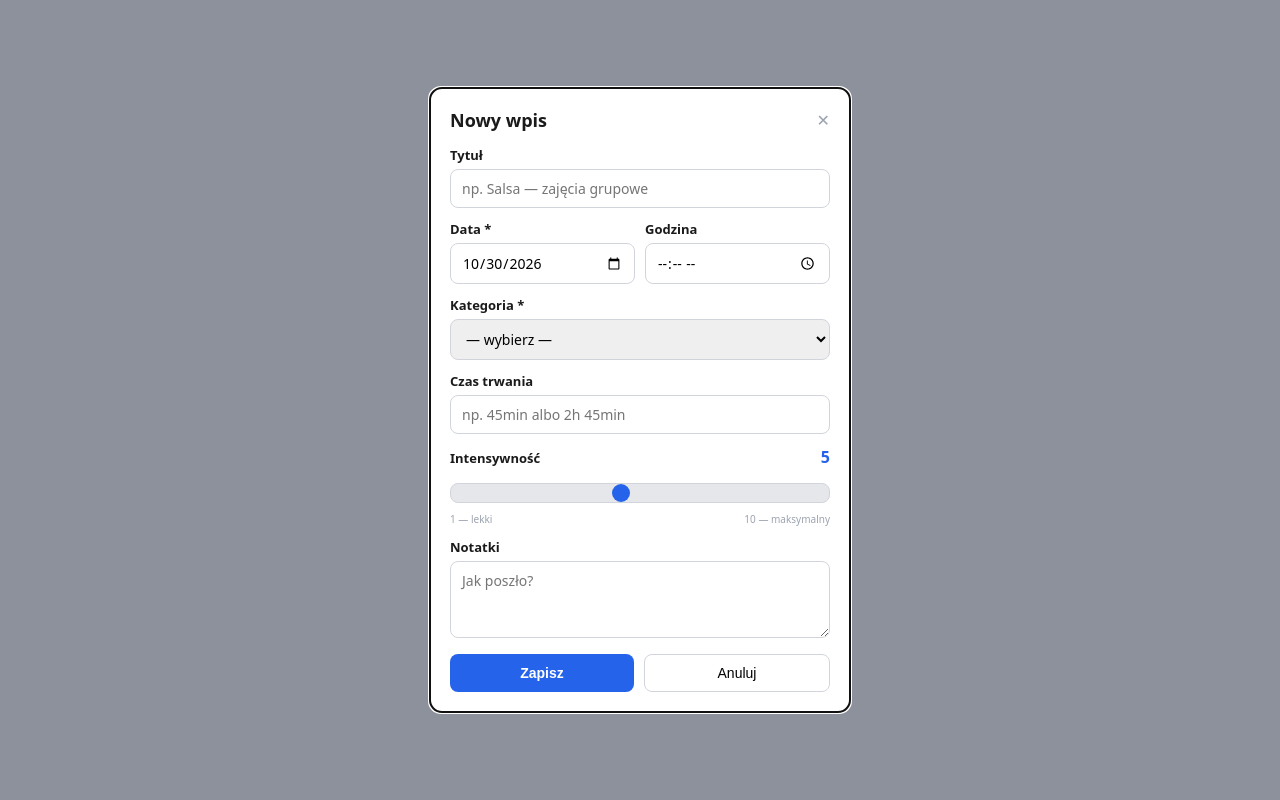
WorkoutLogForm › odrzuca czas trwania równy zero
Select "Taniec" in the dropdown labelled "Kategoria *" at (640, 340), box [450,319,830,360]
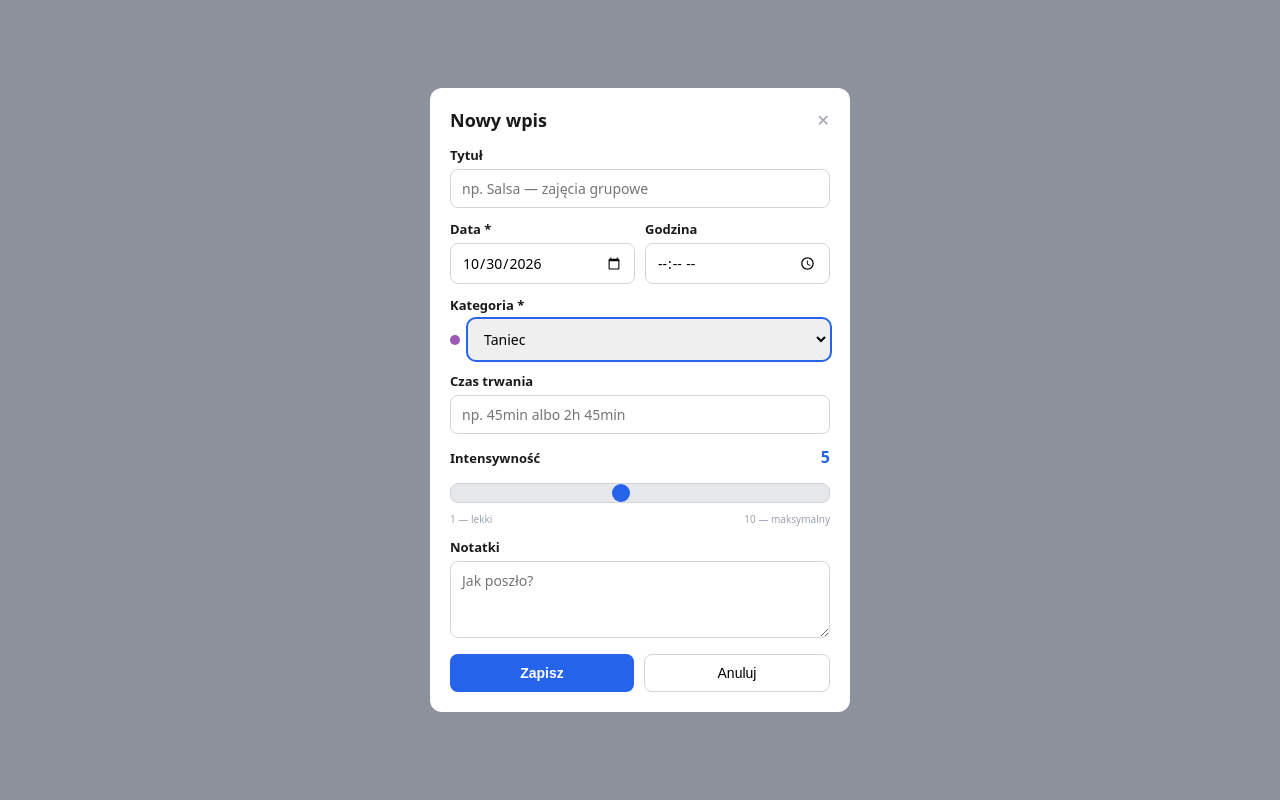
Type "0" into the field labelled "Czas trwania" at (640, 414), box [450,395,830,434]
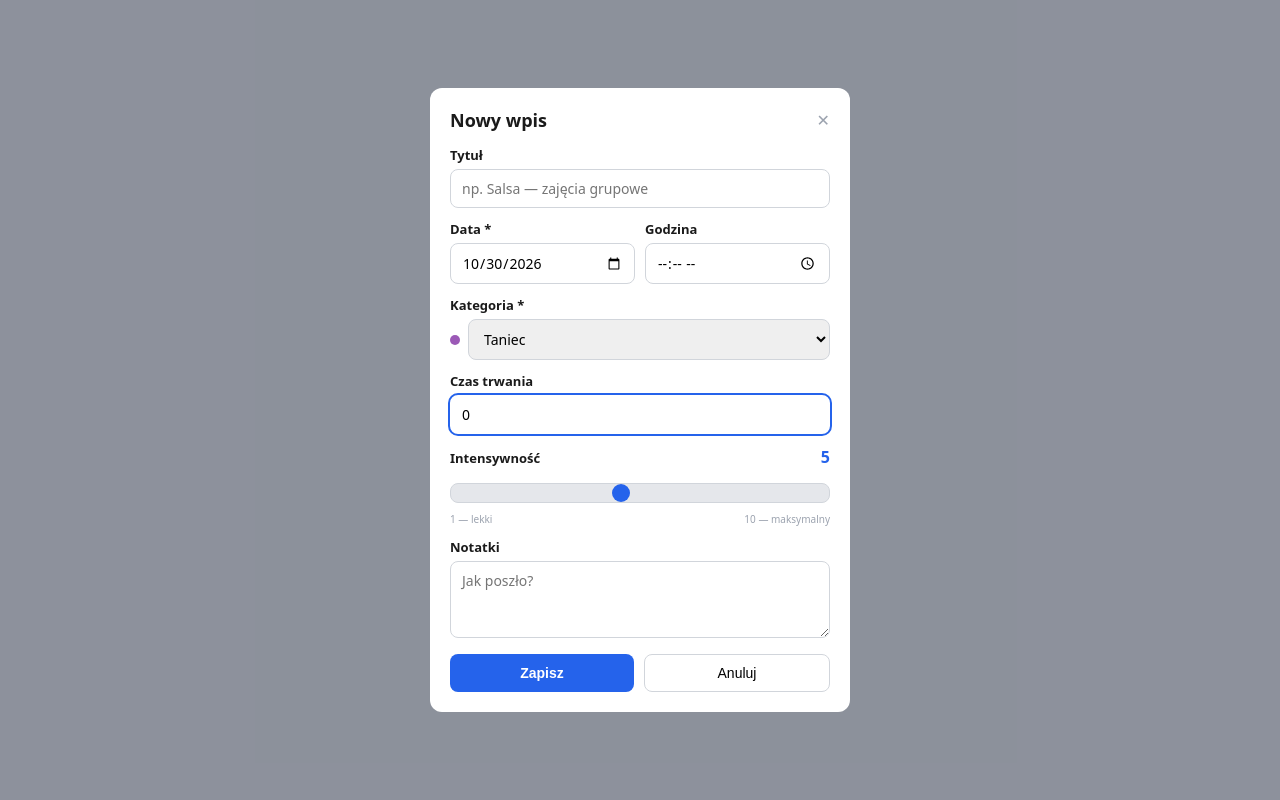
Click the button "Zapisz" at (542, 673), box [450,654,634,692]
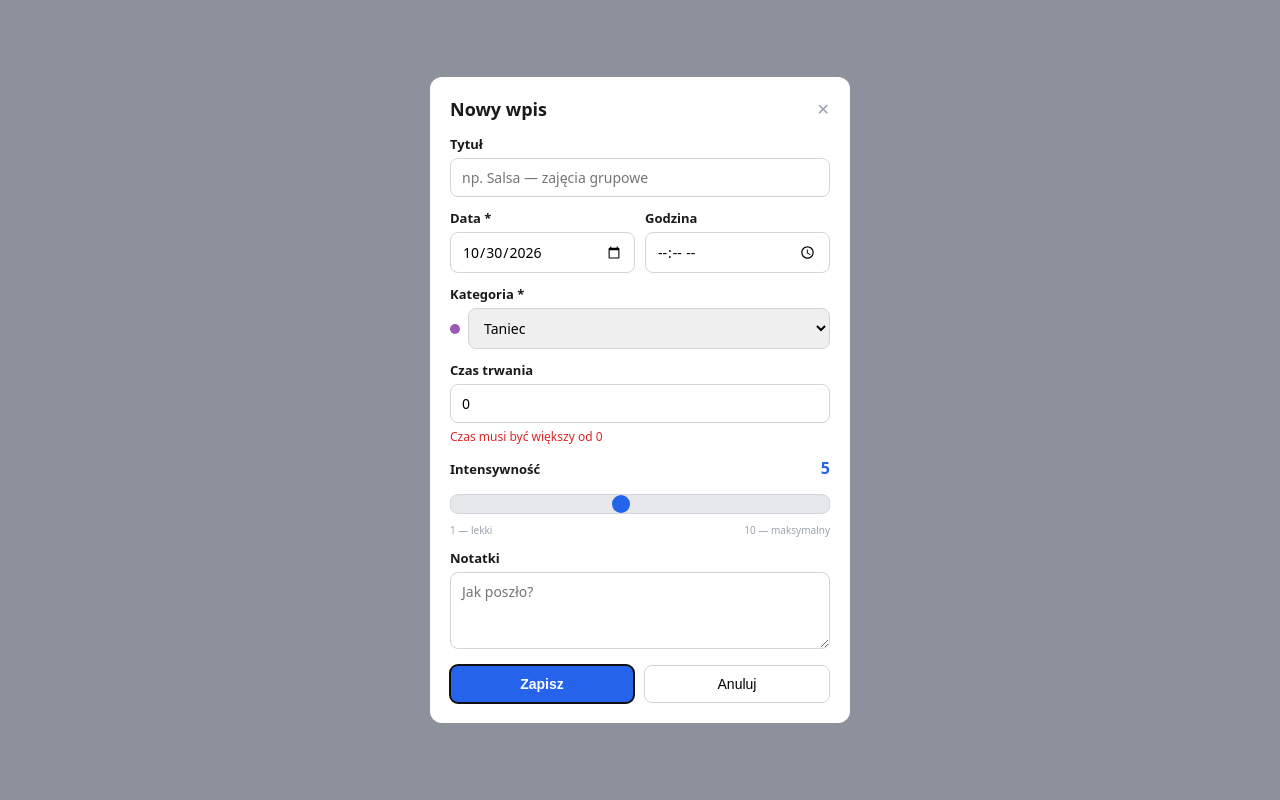
Result: the text "Czas musi być większy od 0" is shown at [450,428,602,445]
